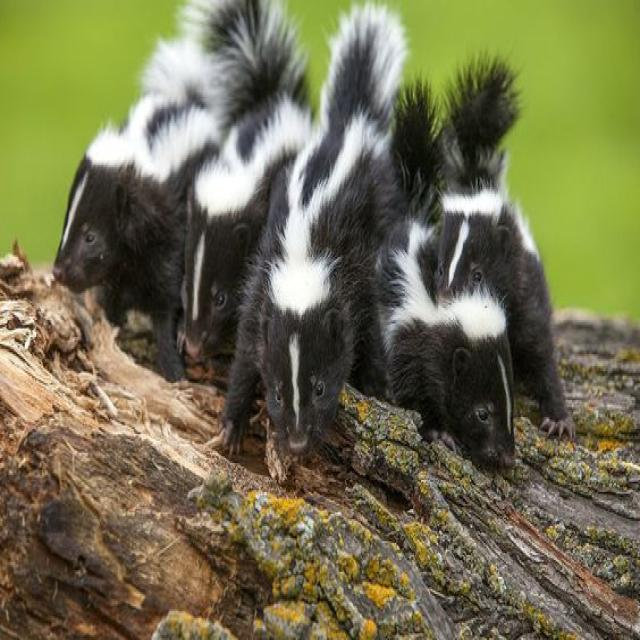Skunk: (366, 69, 571, 492)
